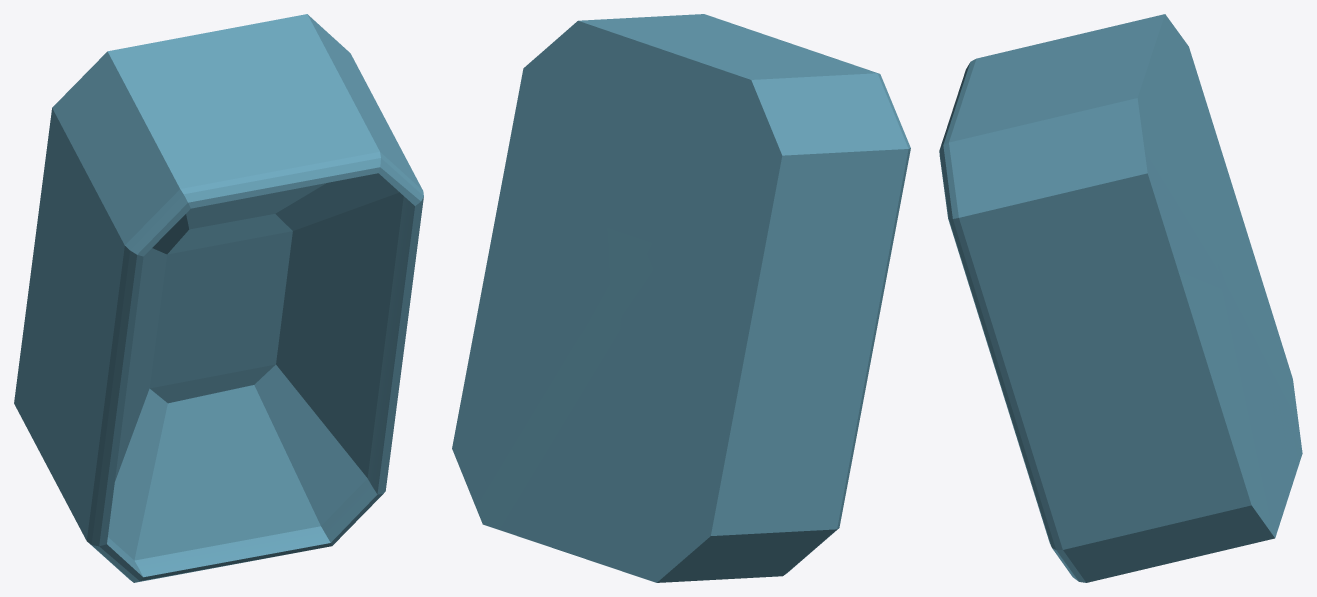
The model's file is BL1_8shapes_Emerald_Classic_Metal.001 3.glb.
The picture shows the model from 3 angles, left to right: view 1: azimuth 30°, elevation 25°; view 2: azimuth 150°, elevation 25°; view 3: azimuth 270°, elevation 25°; orthographic projection. The views are drawn at different scales.
Parts seen in each view (by area): view 1: BL1_8shapes_Emerald_Classic_Metal.001; view 2: BL1_8shapes_Emerald_Classic_Metal.001; view 3: BL1_8shapes_Emerald_Classic_Metal.001.
Part boxes in pixels (bbox=[...]): BL1_8shapes_Emerald_Classic_Metal.001: bbox=[14, 14, 423, 582]; BL1_8shapes_Emerald_Classic_Metal.001: bbox=[452, 14, 910, 582]; BL1_8shapes_Emerald_Classic_Metal.001: bbox=[939, 14, 1302, 582].
Bounding box in the file's own units: 0.4101 × 0.6274 × 0.4226.
